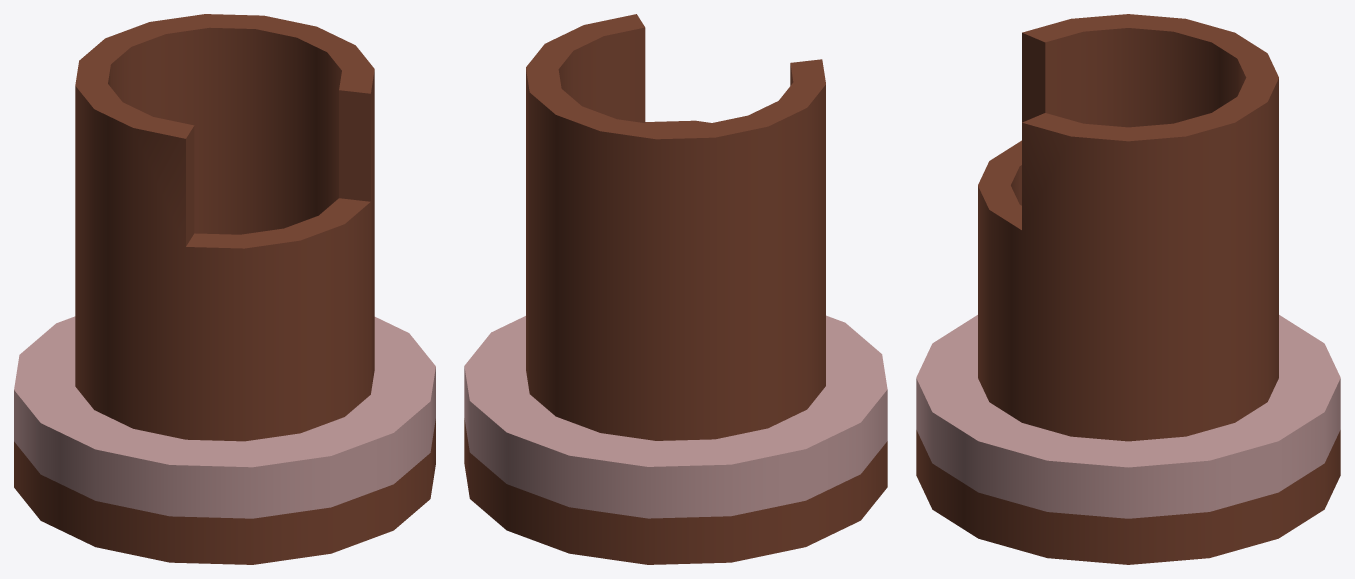
Rendered from SailStation.fbx.
The picture shows the model from 3 angles, left to right: view 1: azimuth 30°, elevation 25°; view 2: azimuth 150°, elevation 25°; view 3: azimuth 270°, elevation 25°; orthographic projection.
Parts seen in each view (by area): view 1: Model; view 2: Model; view 3: Model.
Part boxes in pixels (<box>): Model: <box>14,14,435,564</box>; Model: <box>464,14,887,564</box>; Model: <box>916,14,1340,564</box>.
Size of the model in its own units: 71.42 by 73.8 by 71.42.
